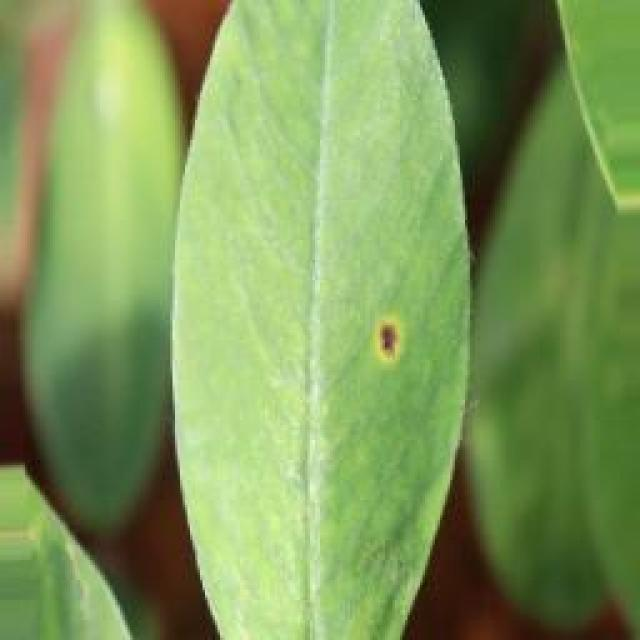Sigatoka: (350, 304, 444, 396)
